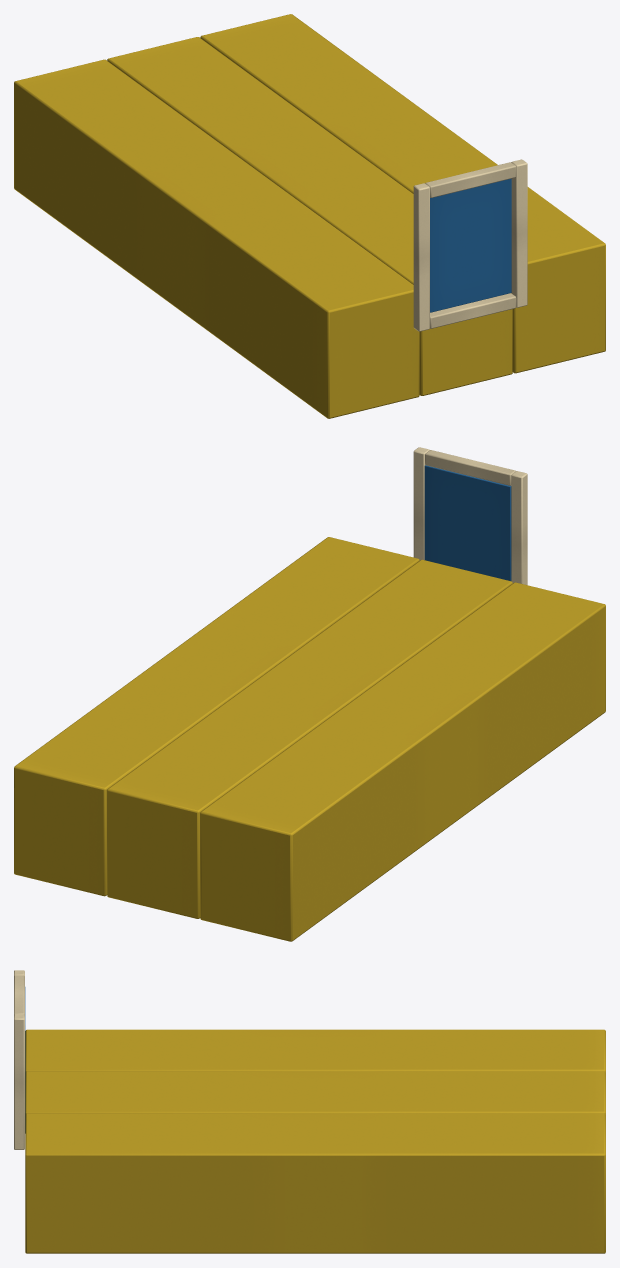
Rendered from 8-right-toy-leg-course-1-1.fbx.
3 renders of one model, top to bottom at view 1: azimuth 30°, elevation 25°; view 2: azimuth 150°, elevation 25°; view 3: azimuth 270°, elevation 25°, orthographic. The views are drawn at different scales.
Visible parts, largest first — view 1: right-toy-leg-course-1-1; view 2: right-toy-leg-course-1-1; view 3: right-toy-leg-course-1-1.
Part boxes in pixels (left/top/right/bottom): right-toy-leg-course-1-1: left=14, top=14, right=605, bottom=418; right-toy-leg-course-1-1: left=14, top=447, right=605, bottom=941; right-toy-leg-course-1-1: left=14, top=970, right=605, bottom=1253.
Size of the model in its own units: 4085 by 3000 by 8155.
Materials: 1 (1 with a texture image).
